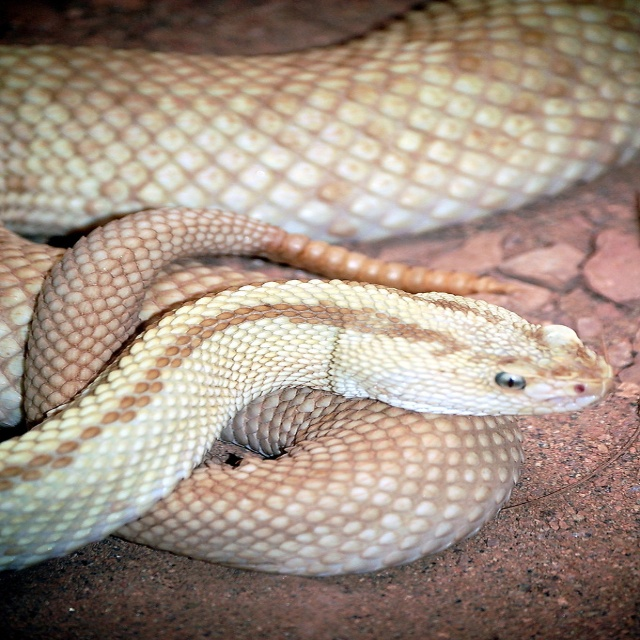Snake: (0, 0, 640, 577)
